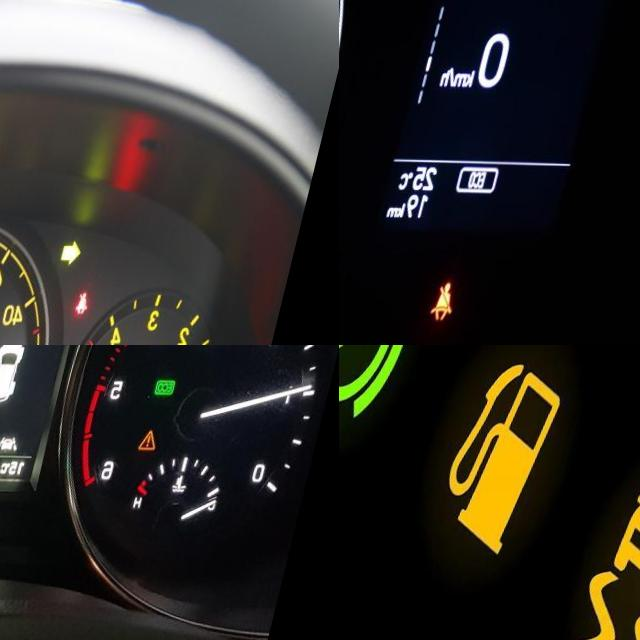Central Warning lamp: (156, 427, 179, 450)
